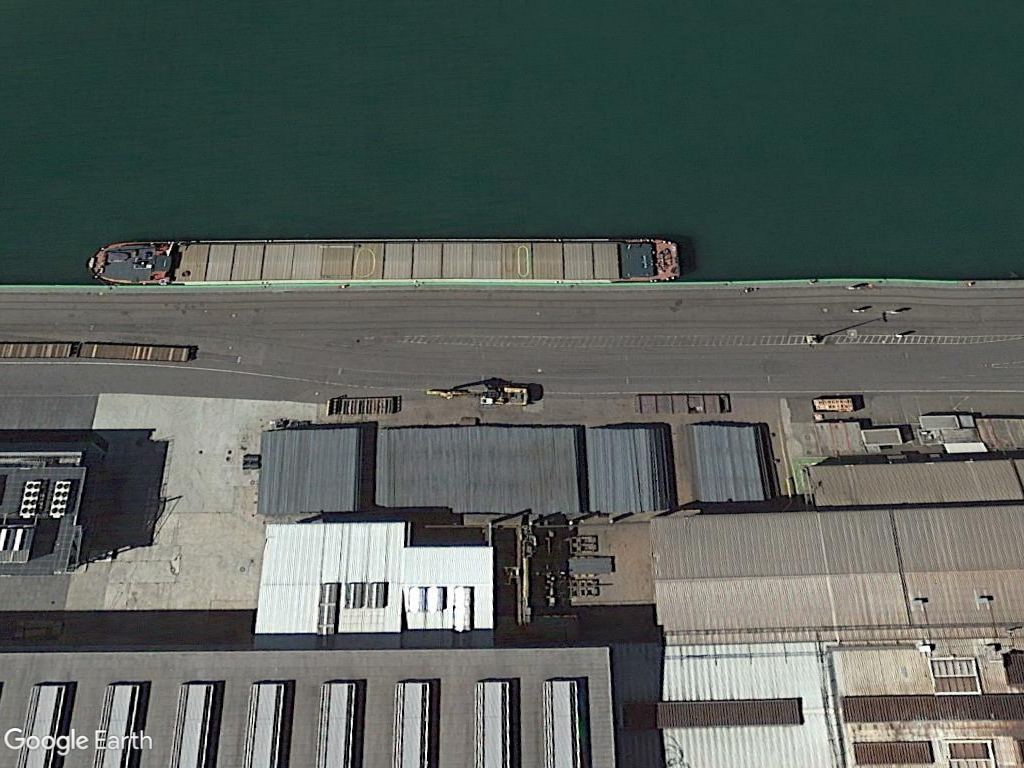boat: (80, 238, 684, 285)
